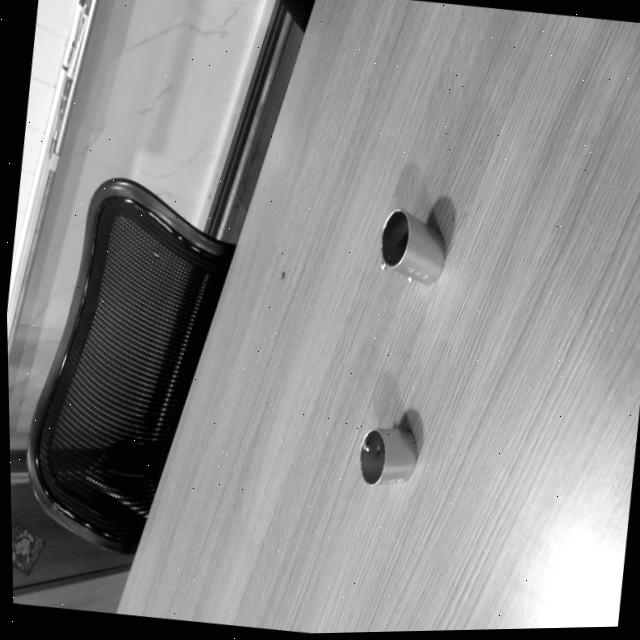Co_Lon: (364, 204, 458, 294)
Co_Nho: (359, 428, 415, 486)
